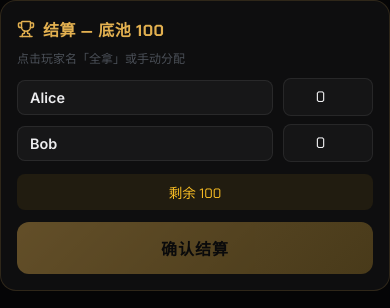
Test: SettlePanel › should give all to player on name click
Click the button "Alice". click: x=145, y=97
box: [17,80,273,114]
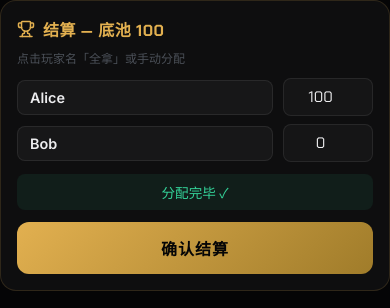
Expected: the text "分配完毕 ✓" is shown, [17,174,373,210]
